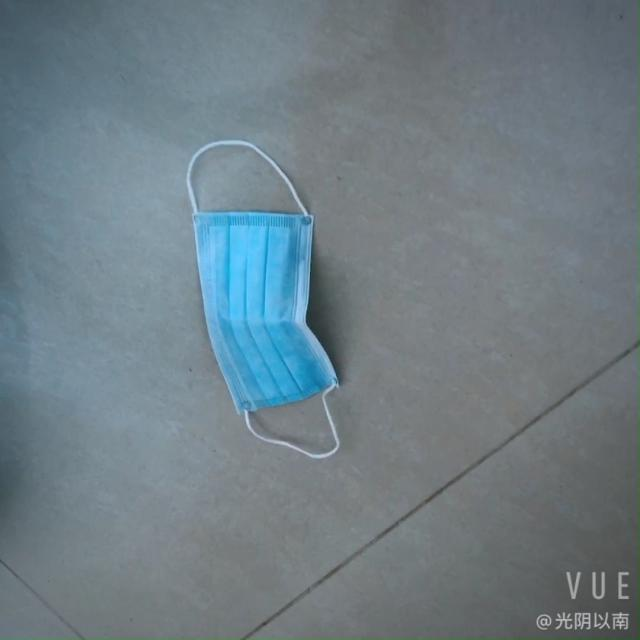non-organic waste: (180, 175, 342, 447)
